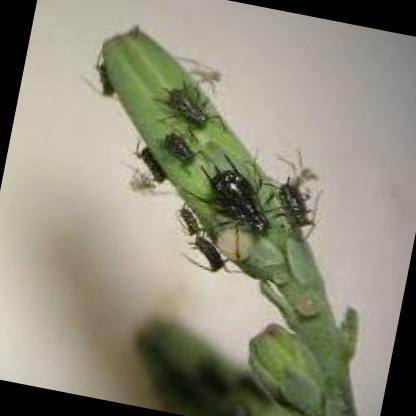uroleucon compositae: (181, 153, 273, 236), (159, 87, 211, 126), (275, 176, 313, 228), (181, 235, 224, 272)
